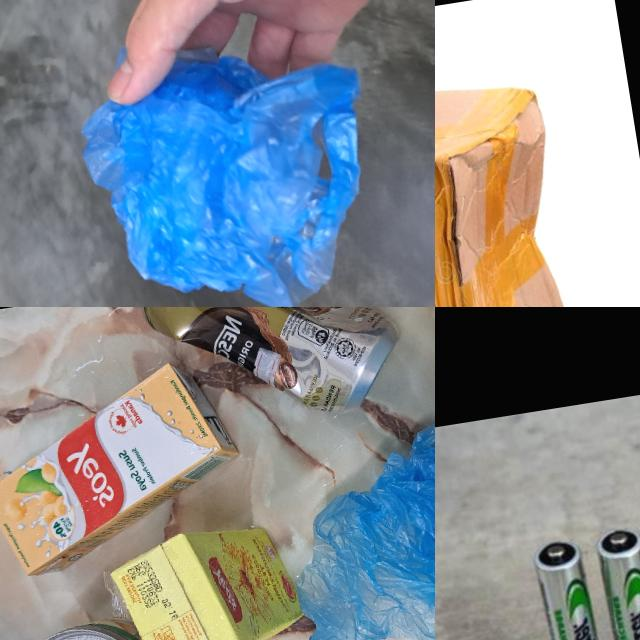bateria: (530, 535, 609, 640), (595, 525, 640, 640)
caixinha: (0, 353, 247, 578), (106, 511, 300, 640)
lata: (134, 307, 404, 444), (0, 598, 235, 640)
papelão: (435, 47, 593, 307)
sacola plástica: (77, 15, 393, 307), (270, 377, 435, 640)
